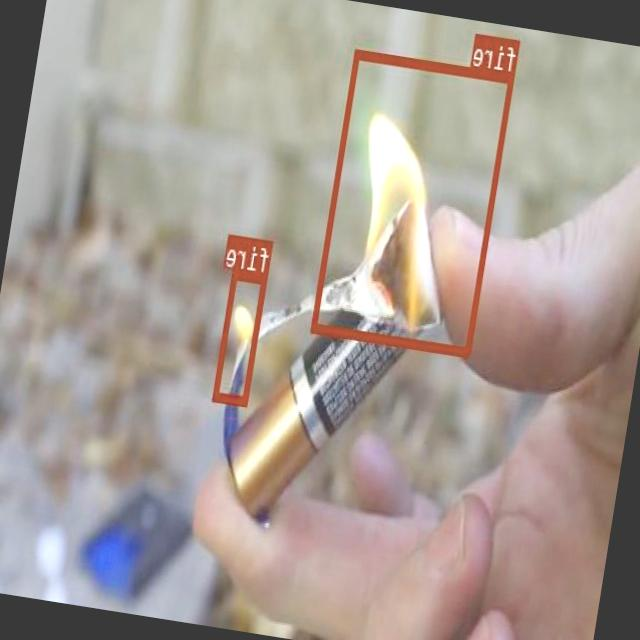fire: (312, 48, 515, 356), (214, 269, 270, 404)
